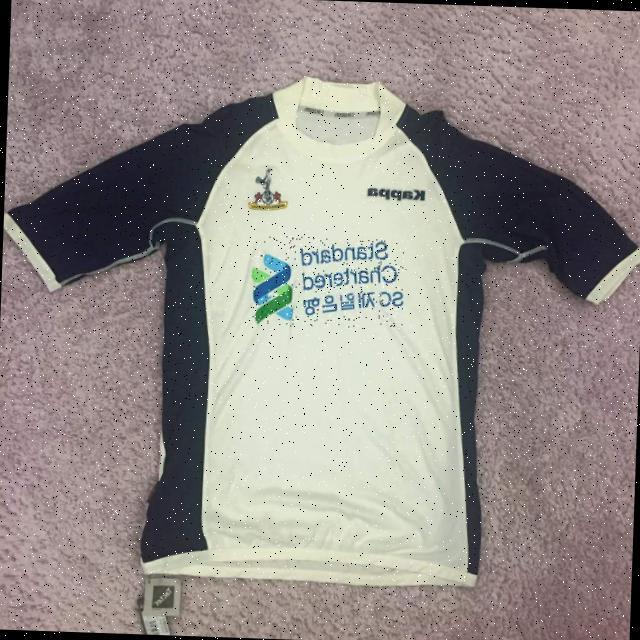Standard Chartered: (249, 235, 407, 330)
